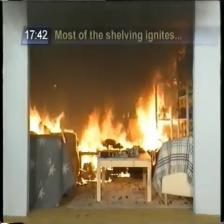fire: (32, 108, 171, 157)
